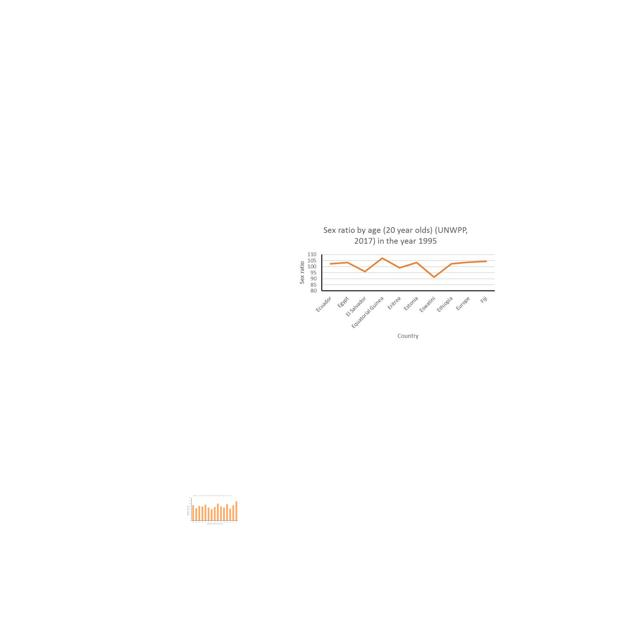Graph: (294, 220, 500, 344), (186, 494, 239, 526)
